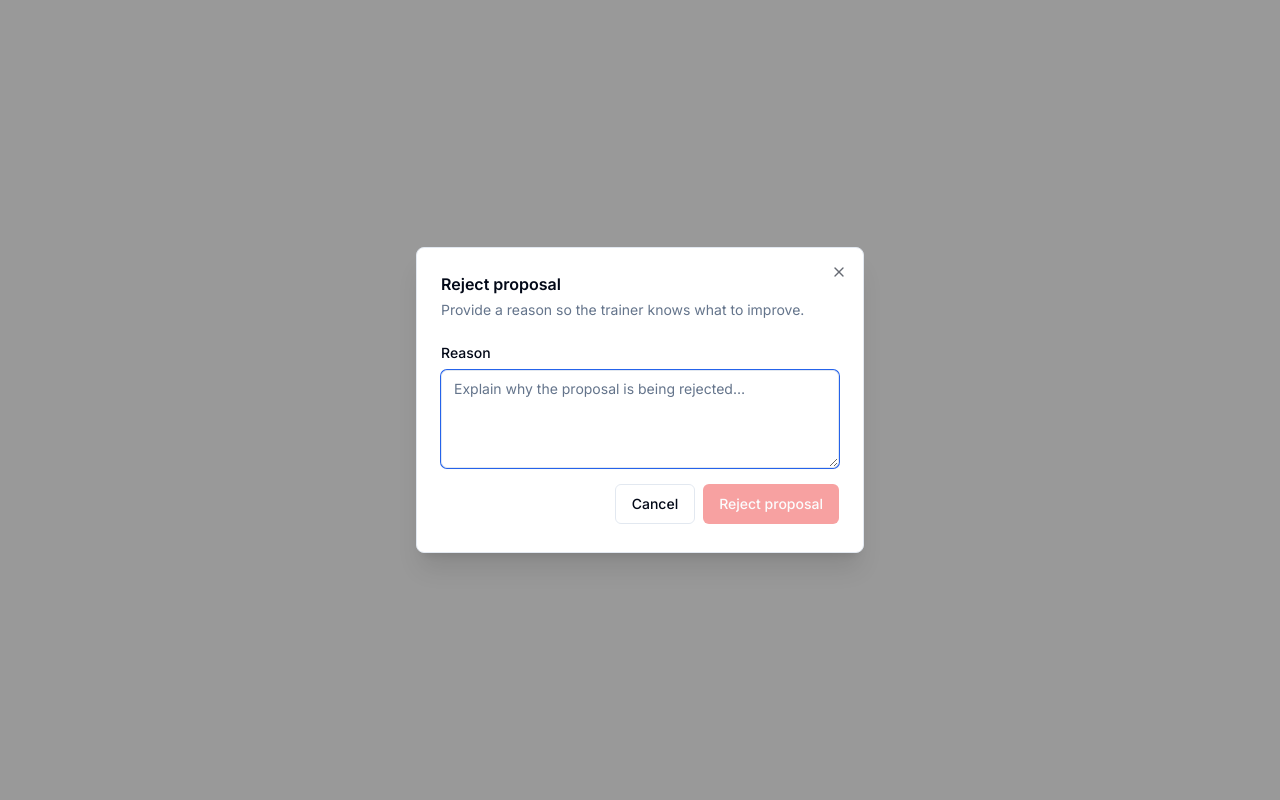
it: ProposalRejectDialog › enables the Reject button when a reason is typed
Step 1. Type "Content needs revision" into the text box labelled "Reason" → (640, 419), box [441,370,839,468]
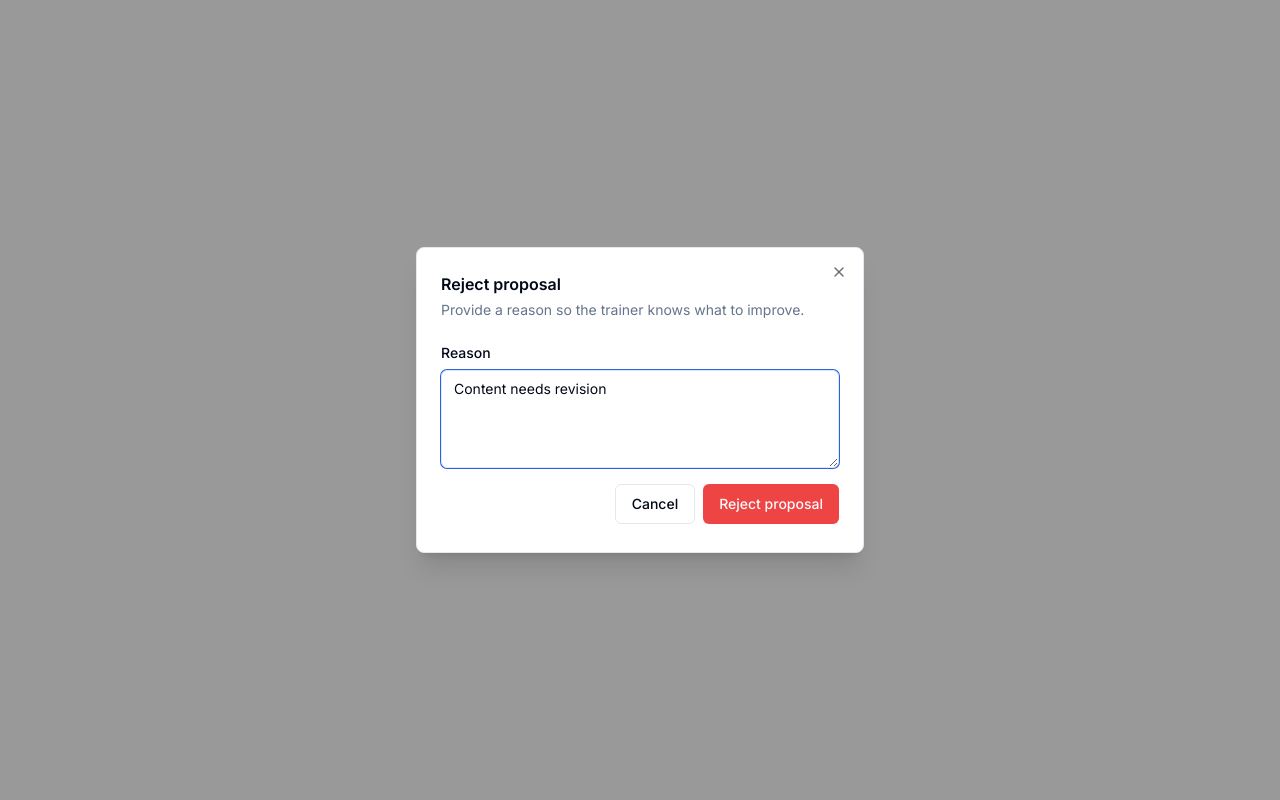
expect the button "Reject proposal" is enabled: met, box [703,484,839,524]
